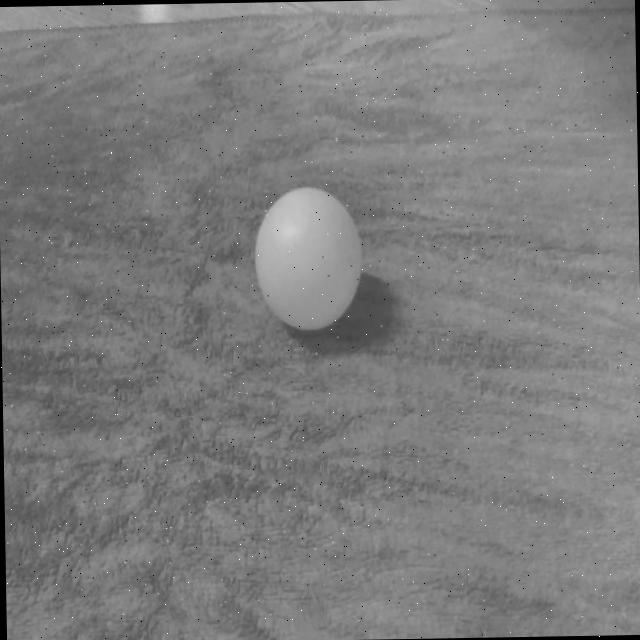ping-pong-ball: (254, 188, 362, 328)
